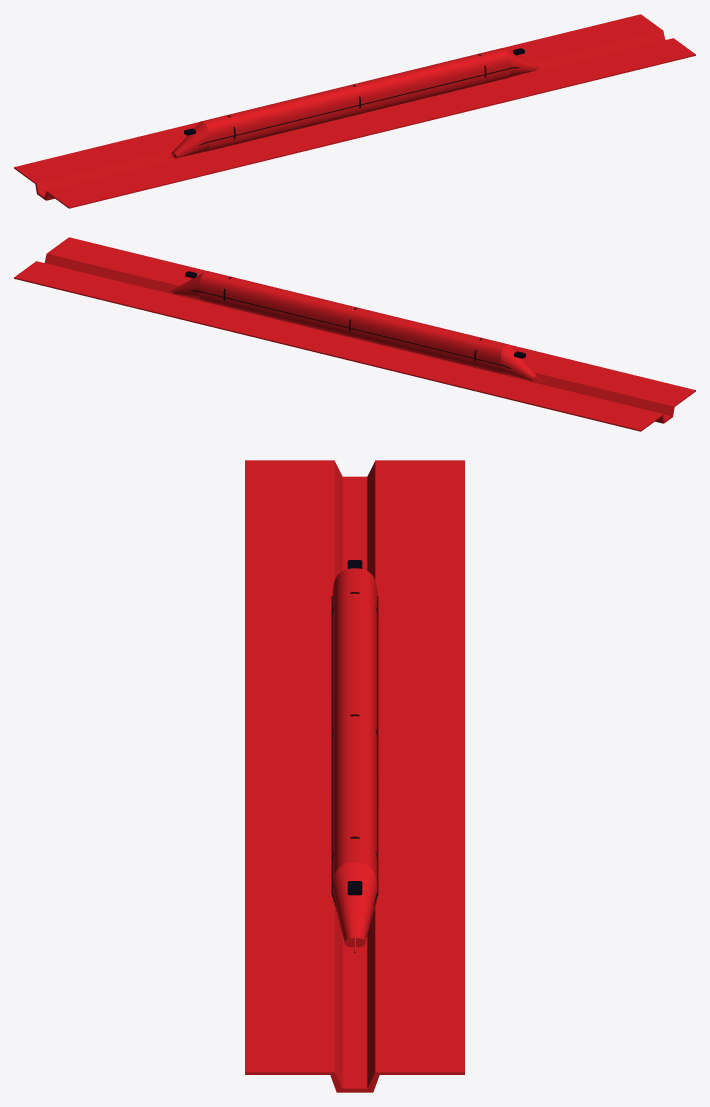
The picture shows the model from 3 angles, top to bottom: view 1: azimuth 30°, elevation 25°; view 2: azimuth 150°, elevation 25°; view 3: azimuth 270°, elevation 25°; orthographic projection. The views are drawn at different scales.
Parts seen in each view (by area): view 1: rail_mechanism; view 2: rail_mechanism; view 3: rail_mechanism.
Boxes of the visible parts, box(x1,y1,x2,y2) form: rail_mechanism: box(14, 14, 695, 208); rail_mechanism: box(14, 237, 695, 431); rail_mechanism: box(245, 460, 464, 1092).
Bounding box in the file's own units: 100 × 5.42 × 15.21.
